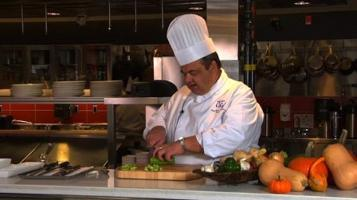person: (144, 14, 266, 167)
